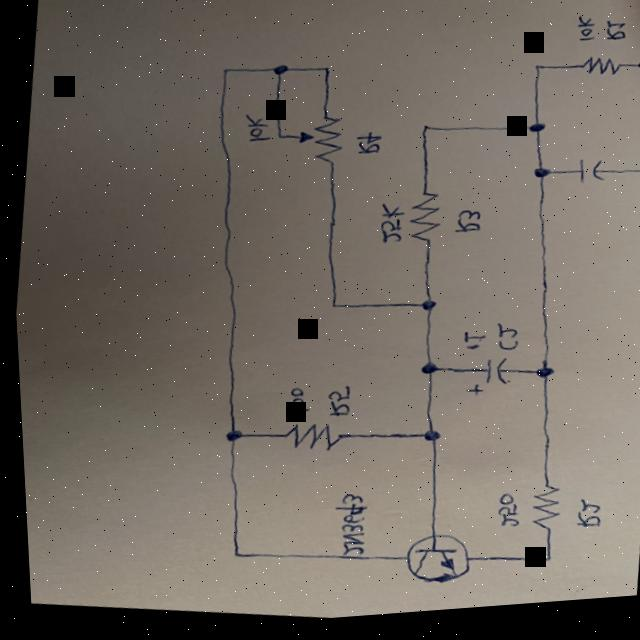capacitor: (457, 360, 509, 408), (571, 163, 605, 196)
junction: (405, 295, 442, 327), (211, 423, 248, 453), (405, 360, 442, 388), (407, 122, 442, 151), (522, 168, 556, 197), (408, 427, 442, 456), (214, 542, 248, 571), (524, 365, 556, 394), (519, 122, 551, 149), (310, 61, 341, 88), (267, 64, 296, 86), (212, 62, 236, 87), (522, 65, 550, 85), (529, 556, 556, 576), (319, 300, 344, 321), (270, 131, 287, 148), (629, 66, 640, 88), (631, 169, 640, 192)
resistor: (291, 116, 345, 174), (274, 421, 345, 463), (401, 190, 442, 255), (519, 487, 561, 543), (574, 62, 623, 89)
terminal: (633, 20, 640, 46)
text: (323, 495, 367, 563), (368, 205, 405, 252), (483, 496, 520, 539), (317, 387, 352, 426), (564, 504, 601, 540), (235, 114, 272, 150), (486, 326, 519, 361), (448, 213, 483, 243), (278, 388, 308, 421), (569, 20, 598, 53), (350, 133, 381, 163), (598, 25, 630, 54), (453, 334, 484, 359)
transistor: (386, 528, 471, 598)
